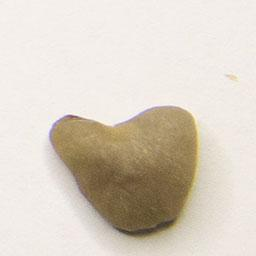defect: (44, 100, 205, 239)
